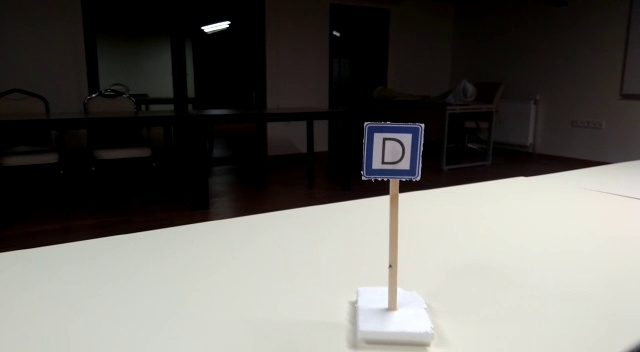durak: (362, 123, 423, 180)
